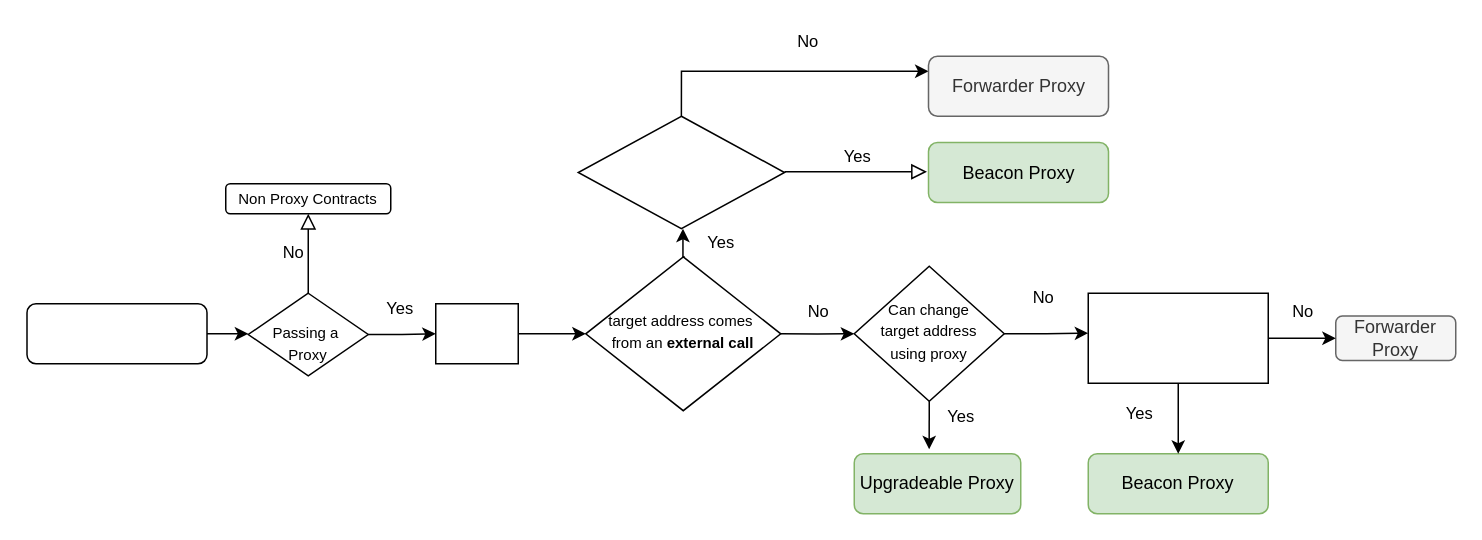
Image size: 1482x540. Some labels were removed from this diagram. Each missing label, with the centre of its shape:
Address inside callee Contract is changeable: (680,172)
Can change target address using Implementation contract: (1177,337)
Proxy Contracts: (476,333)
Transactions to smart contract: (116,333)
